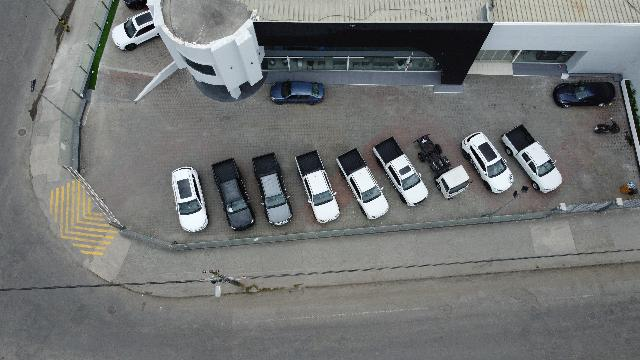Vehiculo: (502, 124, 562, 194), (372, 136, 428, 206), (336, 148, 388, 220), (461, 132, 513, 194), (295, 150, 339, 222), (212, 158, 254, 230), (252, 152, 292, 226), (172, 166, 208, 232), (112, 10, 158, 50), (553, 81, 615, 107), (433, 165, 472, 199), (270, 81, 324, 105), (124, 0, 146, 10)
